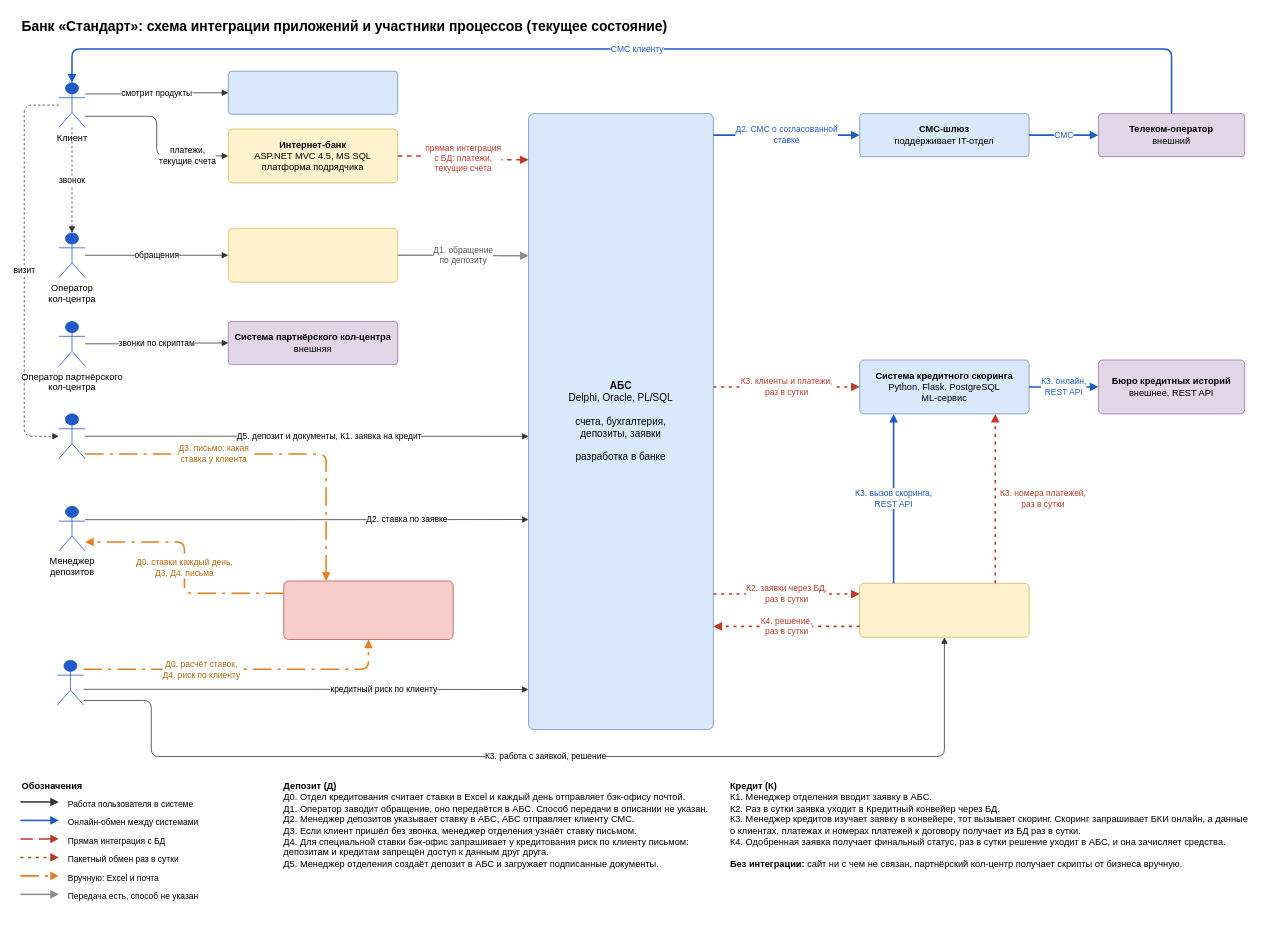
Some shapes in this 1265 by 942 pixel diagram are drawn without their labels. Here are the shapes that lost their labels. From the top down, the centre of each, then its label:
At (x=313, y=92): "Сайт PHP, React.js".
At (x=313, y=255): "Система кол-центра React.js, Spring Boot, PostgreSQL платформа подрядчика".
At (x=71, y=436): "Менеджер отделения".
At (x=368, y=609): "Excel + почта ставки, письма о ставках, специальные ставки".
At (x=944, y=610): "Кредитный конвейер Camunda, Oracle коробка подрядчика".
At (x=70, y=682): "Менеджер кредитов".
